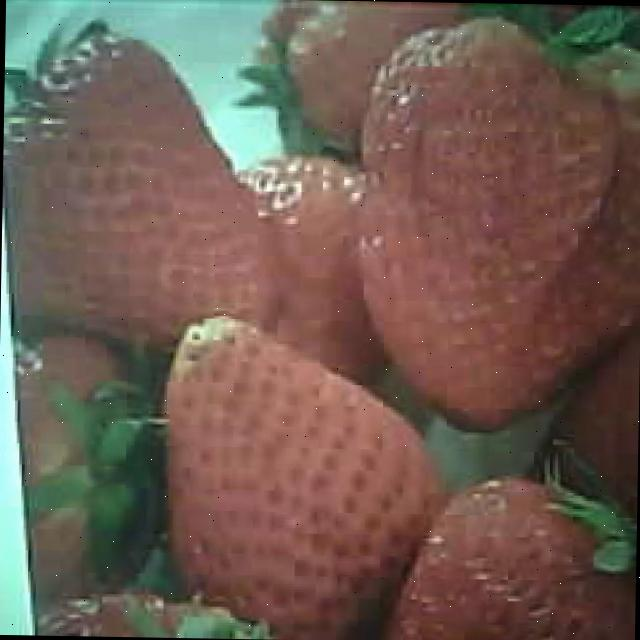strawberry: (356, 12, 640, 427), (161, 311, 439, 640), (6, 30, 280, 347)
